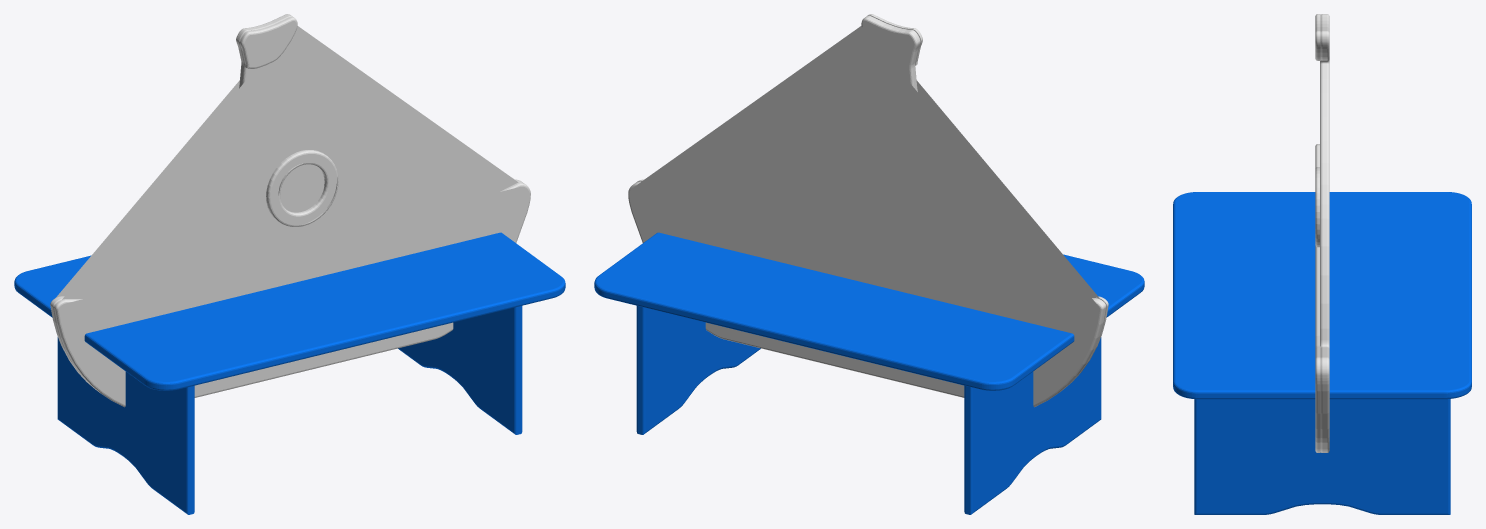
The picture shows the model from 3 angles, left to right: view 1: azimuth 30°, elevation 25°; view 2: azimuth 150°, elevation 25°; view 3: azimuth 270°, elevation 25°; orthographic projection.
Visible parts, largest first — view 1: D_53; view 2: D_53; view 3: D_53.
Boxes of the visible parts, bbox=[...] form: D_53: bbox=[14, 14, 565, 514]; D_53: bbox=[594, 14, 1144, 514]; D_53: bbox=[1173, 14, 1471, 514].
Bounding box in the file's own units: 114 × 93.97 × 63.
